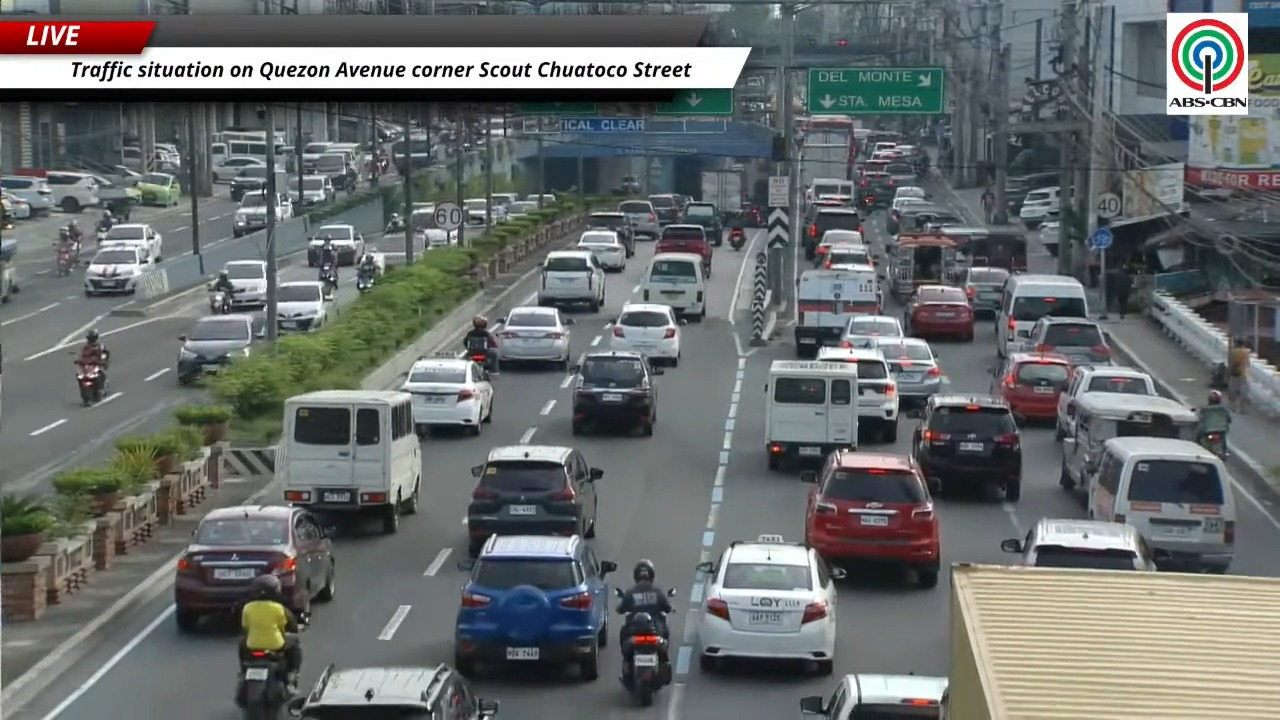bus: (800, 115, 856, 186), (210, 128, 266, 143), (0, 345, 2, 426)
car: (453, 535, 616, 680), (174, 505, 335, 632), (697, 535, 844, 674), (801, 450, 940, 587), (467, 446, 602, 556), (908, 393, 1022, 501), (287, 664, 498, 719), (1001, 518, 1156, 571), (816, 346, 899, 442), (570, 350, 662, 435), (1055, 364, 1157, 439), (401, 357, 493, 436), (800, 673, 948, 719), (176, 314, 256, 384), (991, 353, 1071, 421), (496, 306, 573, 371), (875, 338, 943, 407), (610, 303, 681, 366), (537, 249, 606, 312), (1028, 316, 1111, 364), (903, 285, 974, 341), (84, 245, 153, 296), (802, 207, 864, 260), (654, 224, 712, 277), (958, 267, 1009, 317), (277, 281, 327, 331), (307, 223, 365, 266), (100, 223, 162, 262), (43, 171, 100, 213), (586, 211, 635, 257), (576, 230, 627, 272), (0, 175, 53, 215), (840, 315, 904, 348), (896, 201, 962, 233), (223, 260, 266, 309), (680, 202, 722, 246), (233, 190, 270, 237), (1018, 186, 1058, 228), (618, 200, 660, 240), (858, 160, 892, 206), (135, 172, 181, 206), (229, 162, 267, 202), (290, 175, 335, 207), (818, 243, 874, 268), (211, 156, 264, 181), (885, 154, 916, 190), (462, 199, 506, 224), (648, 194, 681, 225), (1037, 219, 1060, 257), (0, 192, 32, 219), (820, 229, 864, 245), (892, 185, 928, 201), (508, 201, 538, 219), (525, 193, 556, 206)
motorcycle: (620, 613, 671, 706), (236, 651, 291, 719), (76, 363, 104, 406), (465, 336, 495, 371), (209, 287, 242, 314), (1199, 431, 1227, 458), (55, 243, 76, 275), (319, 263, 337, 299), (356, 270, 373, 293), (729, 228, 745, 250), (384, 220, 404, 233), (861, 195, 875, 211), (95, 228, 108, 244)
truck: (941, 564, 1279, 719), (800, 144, 848, 187), (700, 169, 742, 217)
